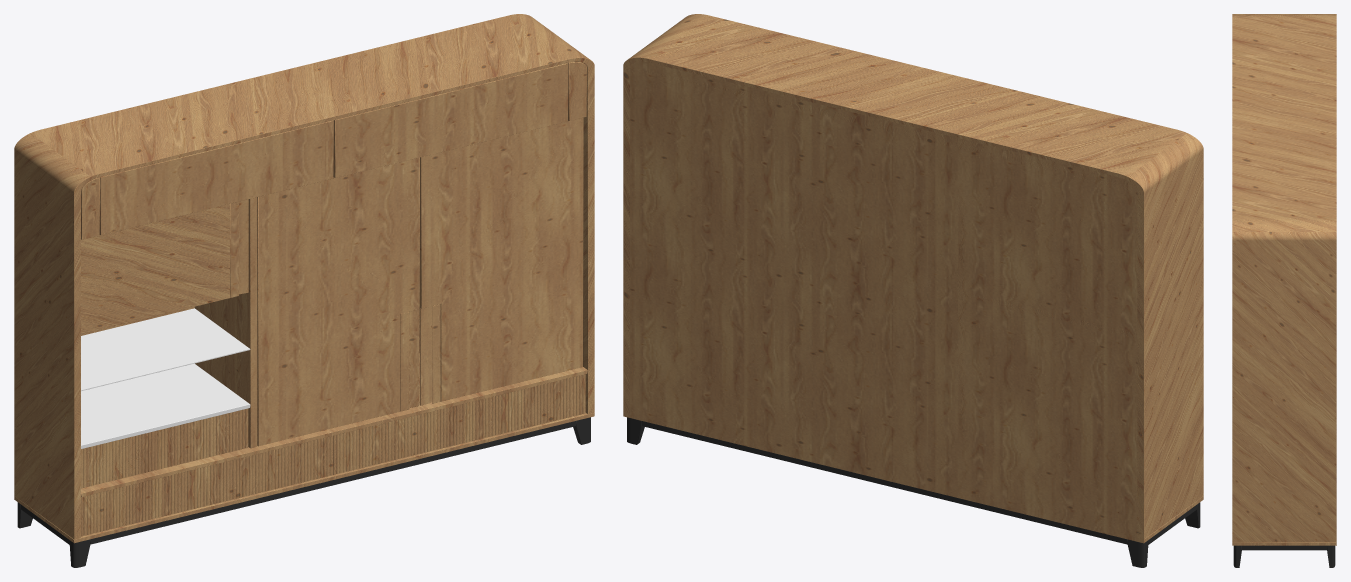
Rendered from versastorage_modular_cabinet_size01.glb.
The picture shows the model from 3 angles, left to right: view 1: azimuth 30°, elevation 25°; view 2: azimuth 150°, elevation 25°; view 3: azimuth 270°, elevation 25°; orthographic projection. The views are drawn at different scales.
Parts seen in each view (by area): view 1: Yalta_shkaf; view 2: Yalta_shkaf; view 3: Yalta_shkaf.
Part boxes in pixels (x1,y1,x2,y2): Yalta_shkaf: (14, 14, 594, 567); Yalta_shkaf: (623, 14, 1203, 567); Yalta_shkaf: (1232, 14, 1336, 567).
Size of the model in its own units: 3.22 by 2.3 by 0.64.
Materials: 5 (2 with a texture image).
